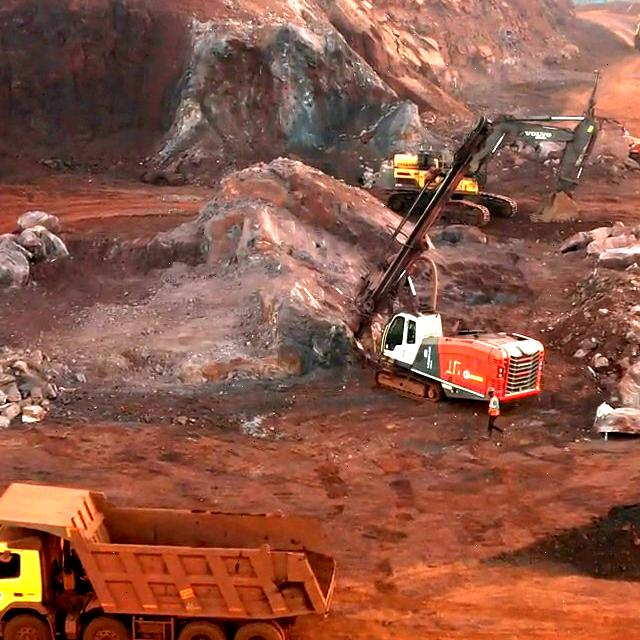Blast rig: (378, 315, 540, 398)
Dumper truck: (0, 505, 323, 640)
Excavator: (380, 146, 492, 216)
